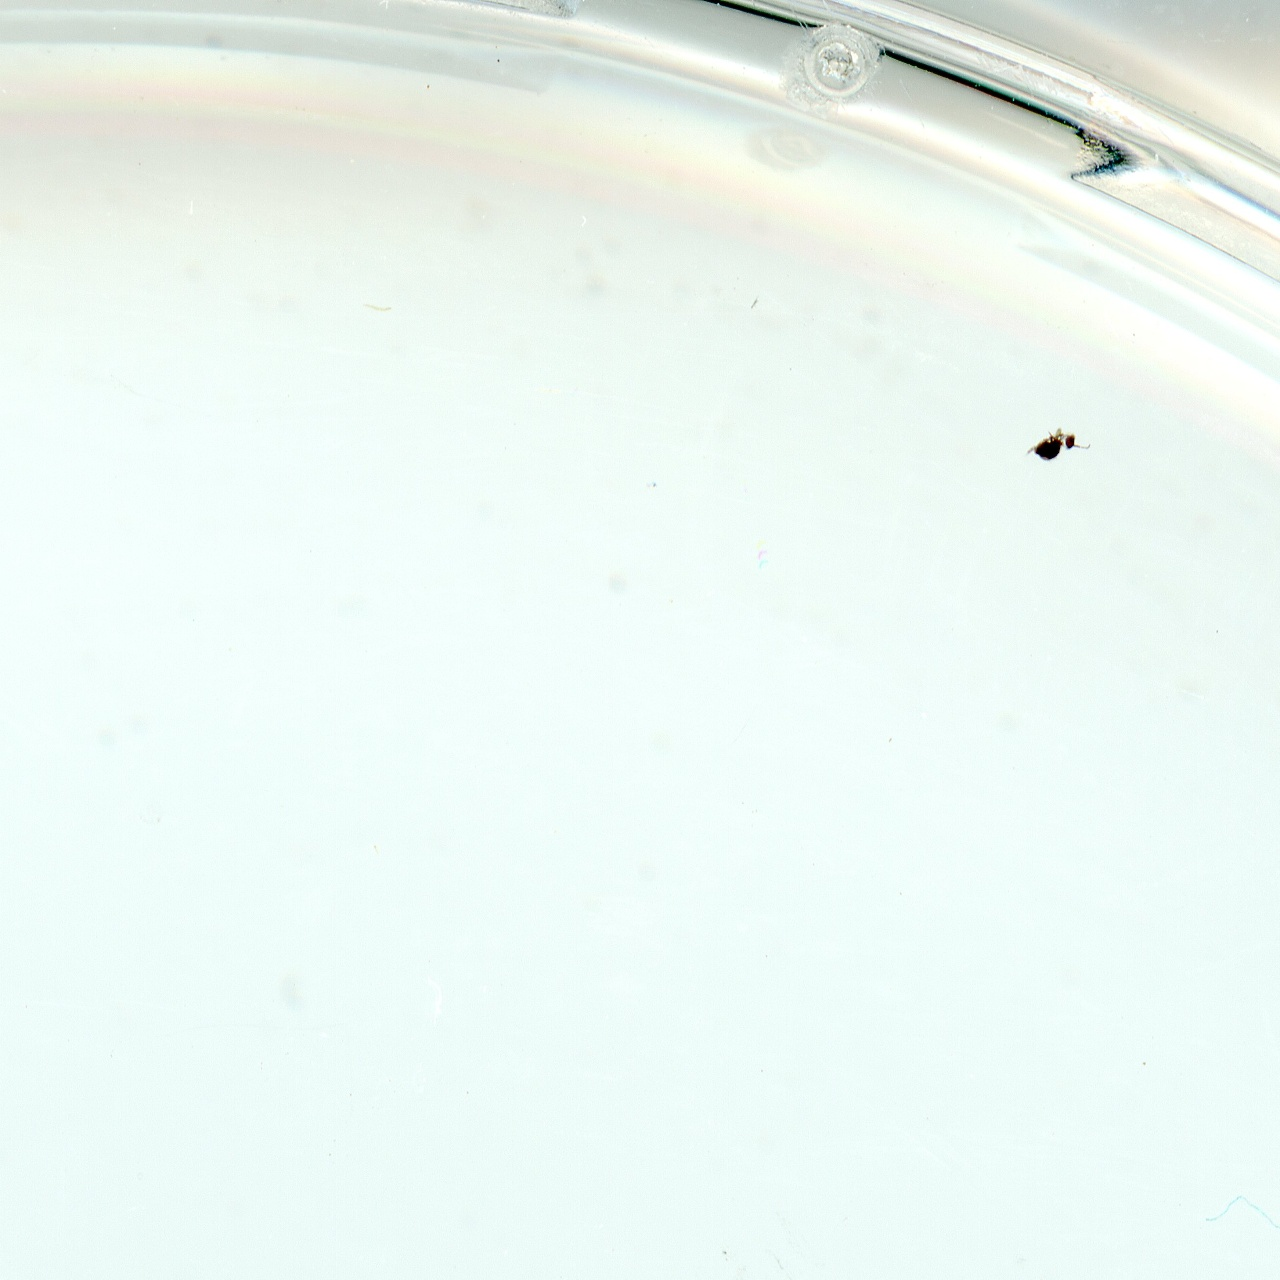arthropod: (1016, 420, 1094, 469)
